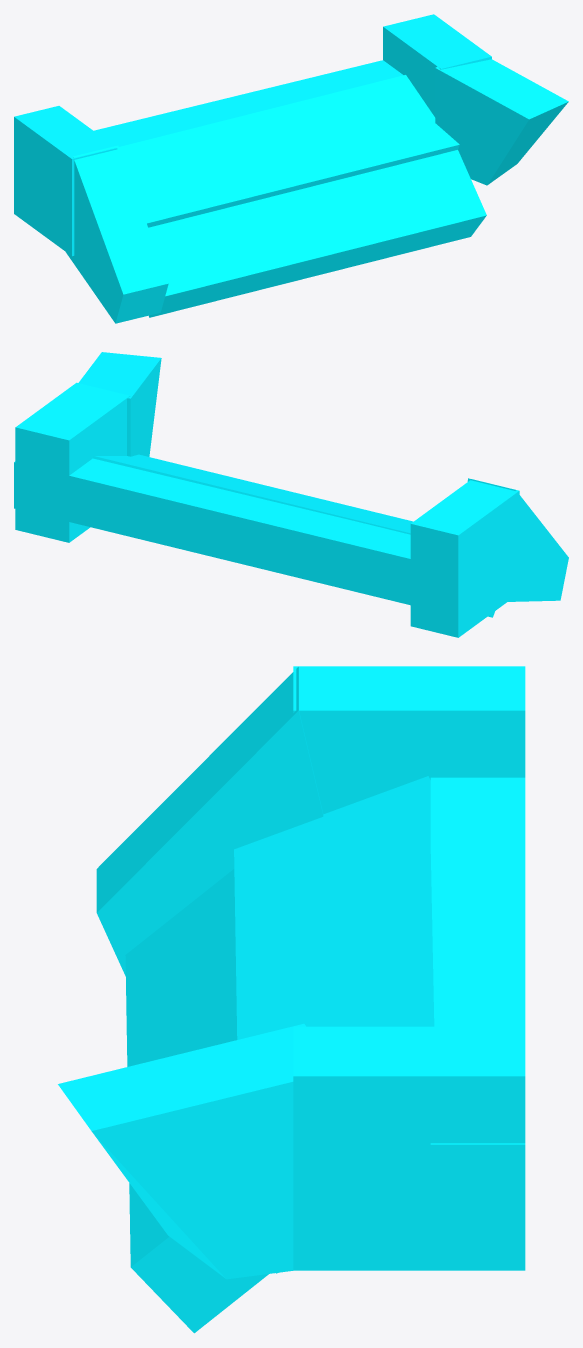
Rendered from SM_Bld_Bridge_End_01_Collision.fbx.
3 renders of one model, top to bottom at view 1: azimuth 30°, elevation 25°; view 2: azimuth 150°, elevation 25°; view 3: azimuth 270°, elevation 25°, orthographic. The views are drawn at different scales.
Parts seen in each view (by area): view 1: SM_Bld_Bridge_End_01_Collision; view 2: SM_Bld_Bridge_End_01_Collision; view 3: SM_Bld_Bridge_End_01_Collision.
Part boxes in pixels (left/top/right/bottom): SM_Bld_Bridge_End_01_Collision: left=14, top=14, right=568, bottom=323; SM_Bld_Bridge_End_01_Collision: left=14, top=352, right=568, bottom=637; SM_Bld_Bridge_End_01_Collision: left=58, top=666, right=525, bottom=1333.
Size of the model in its own units: 2200 by 722 by 997.
